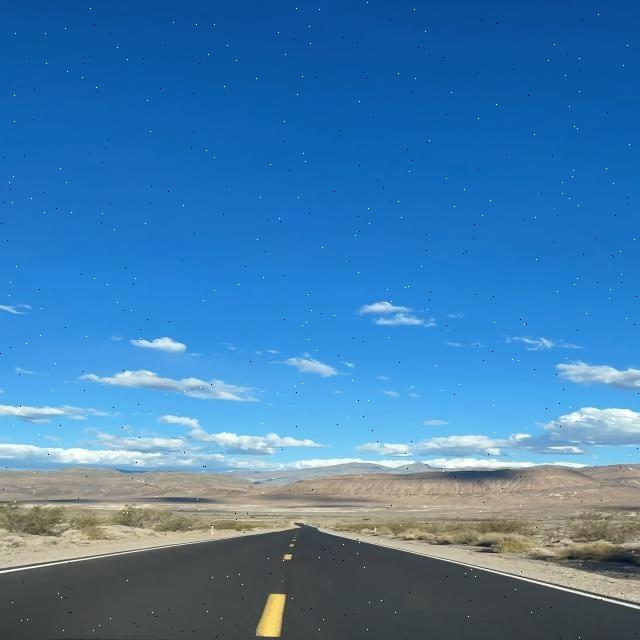lane: (311, 528, 638, 612), (256, 594, 286, 637), (345, 555, 372, 589), (268, 595, 280, 629), (525, 601, 532, 629), (576, 621, 592, 630)
road: (1, 524, 640, 639)
